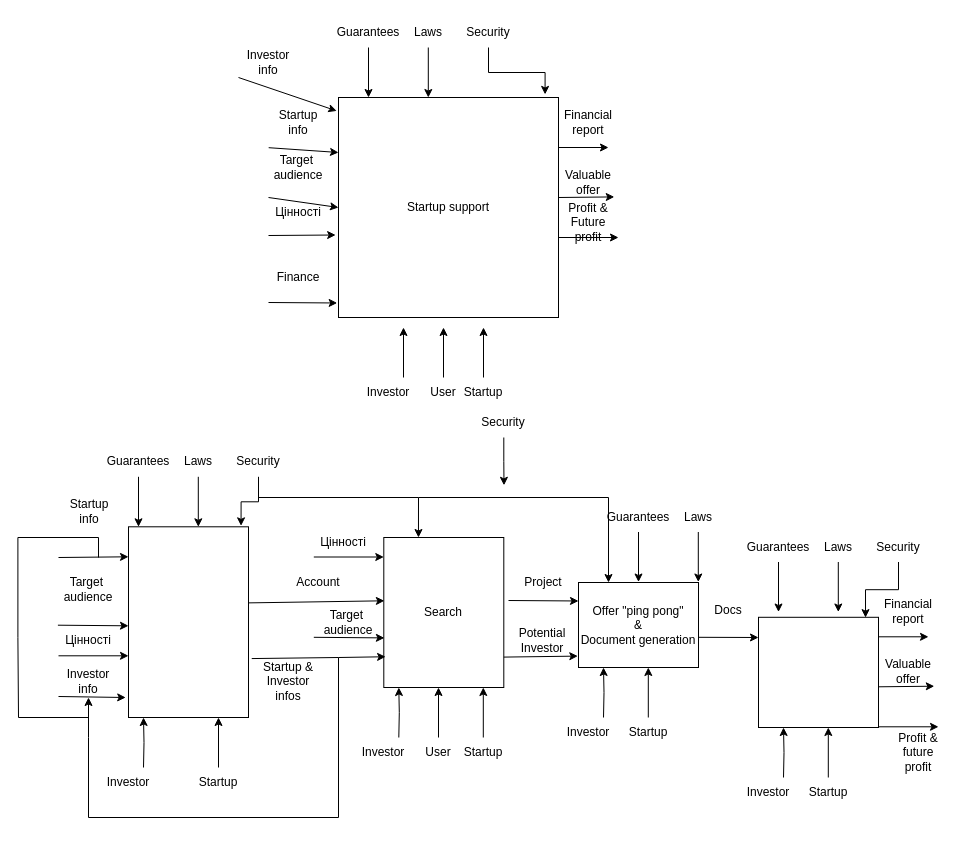
Some shapes in this 966 by 843 pixel diagram are drawn without their labels. Here are the shapes that lost their labels. From the top down, the centre of each, then its label:
At pixel 188 622: "Profile creation &management".
At pixel 818 672: "Funds Transfer &Reporting".
